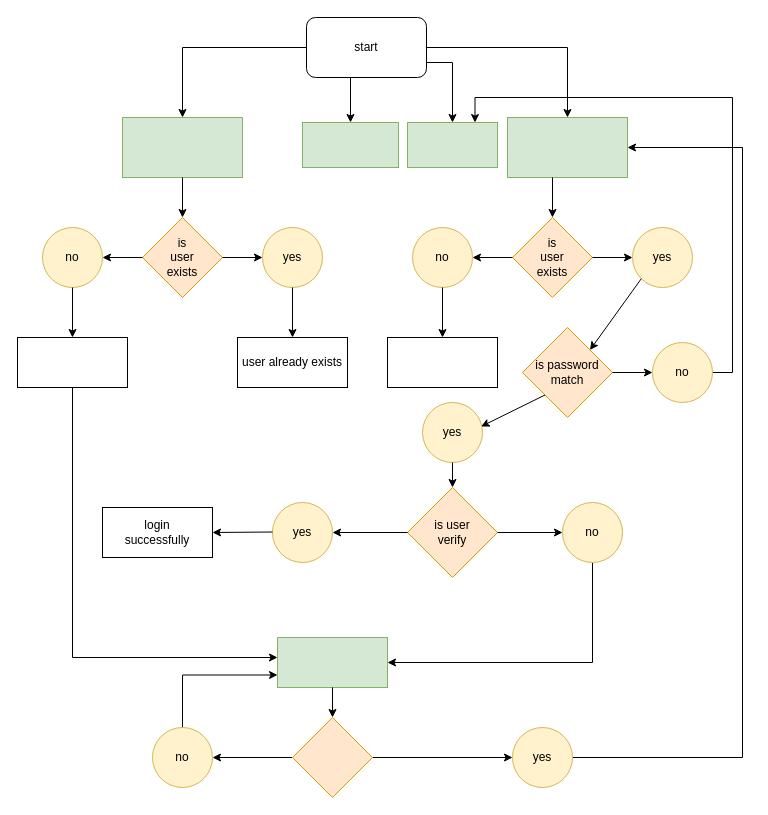
Some shapes in this 768 by 815 pixel diagram are drawn without their labels. Here are the shapes that lost their labels. From the top down, the box of each, then its label:
(122, 116, 242, 178): register
(302, 122, 398, 168): update password
(406, 122, 498, 168): forget password
(506, 116, 628, 178): login
(16, 336, 128, 388): user created
(386, 336, 498, 388): need register
(276, 636, 388, 688): verify
(292, 716, 372, 798): is passcode match
